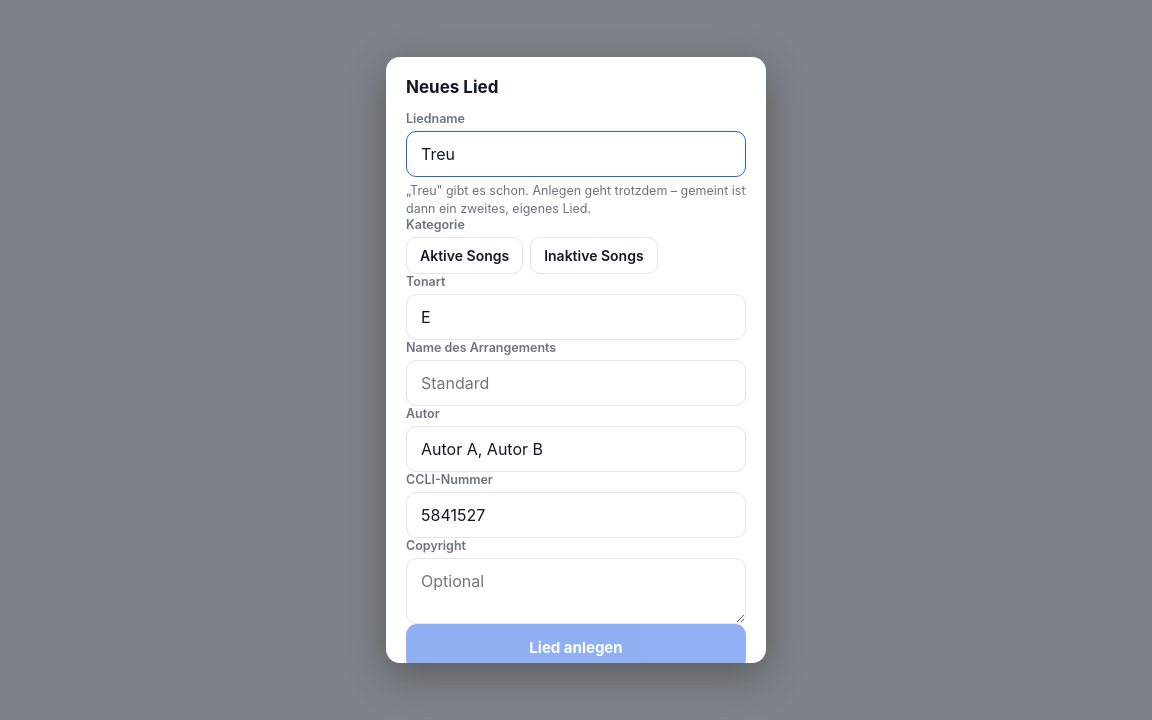
it: NewSongSheet – gibt es das Lied schon? (#395) › bei gleicher CCLI-Nummer fragt die App, statt anzulegen – und nennt Lied, Autor und Nummer
What coordinates should you click on to do the following:
click the button "Aktive Songs"
I would click on:
 (465, 256)
Its box is [406,237,523,274].
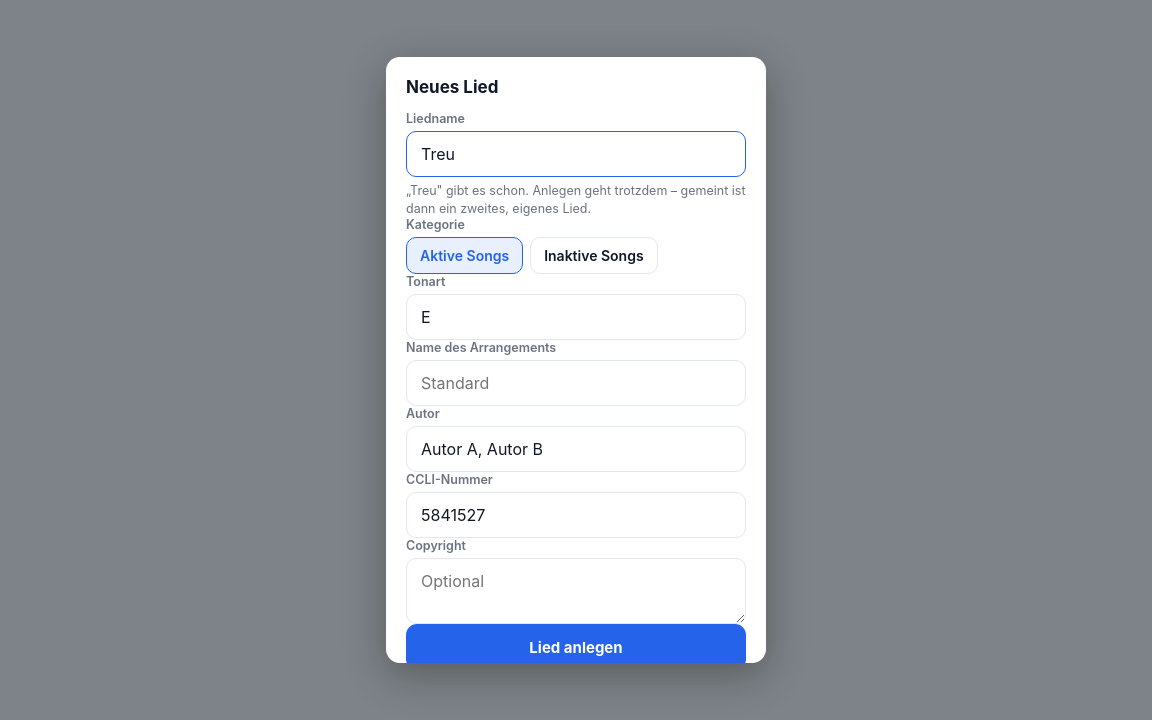
What coordinates should you click on to do the following:
click the button "Lied anlegen"
I would click on:
 (576, 647)
Its box is [406,624,746,670].
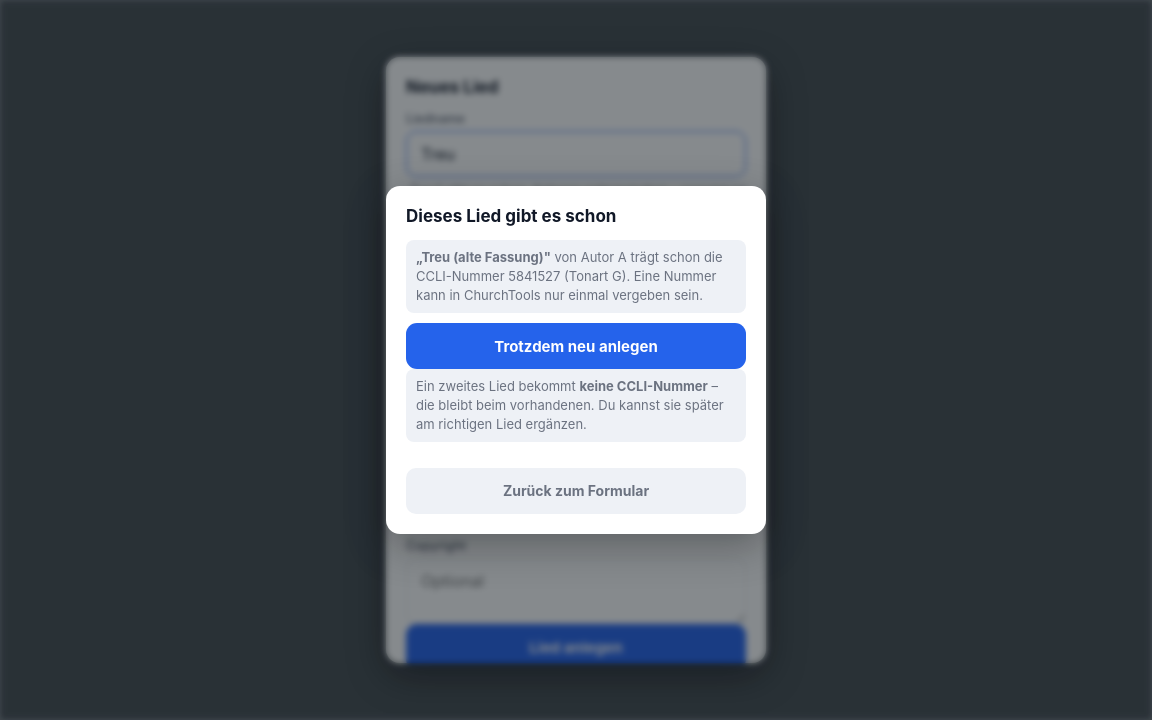
expect the text "Dieses Lied gibt es schon" is shown: met, box [406,206,616,226]
expect the text "trägt schon die CCLI-Nummer" shows "Treu (alte Fassung)": met, box [421,250,544,266]
expect the text "trägt schon die CCLI-Nummer" shows "Autor A": met, box [551,250,627,266]
